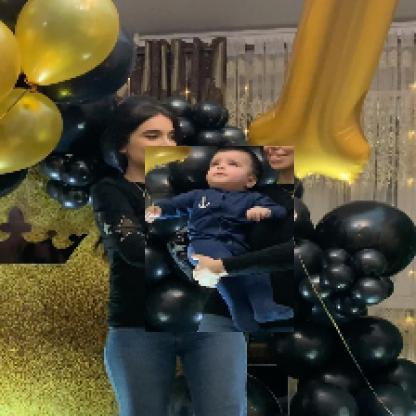child: (146, 147, 296, 334)
